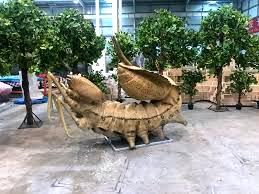Caterpillar: (50, 62, 190, 150)
